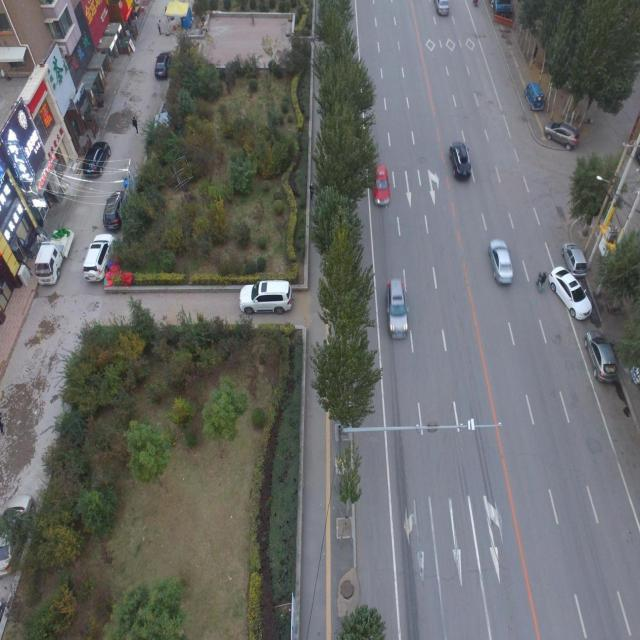p3rson: (131, 116, 138, 134), (36, 232, 45, 245), (0, 407, 4, 436), (309, 182, 314, 201), (156, 19, 162, 33)
